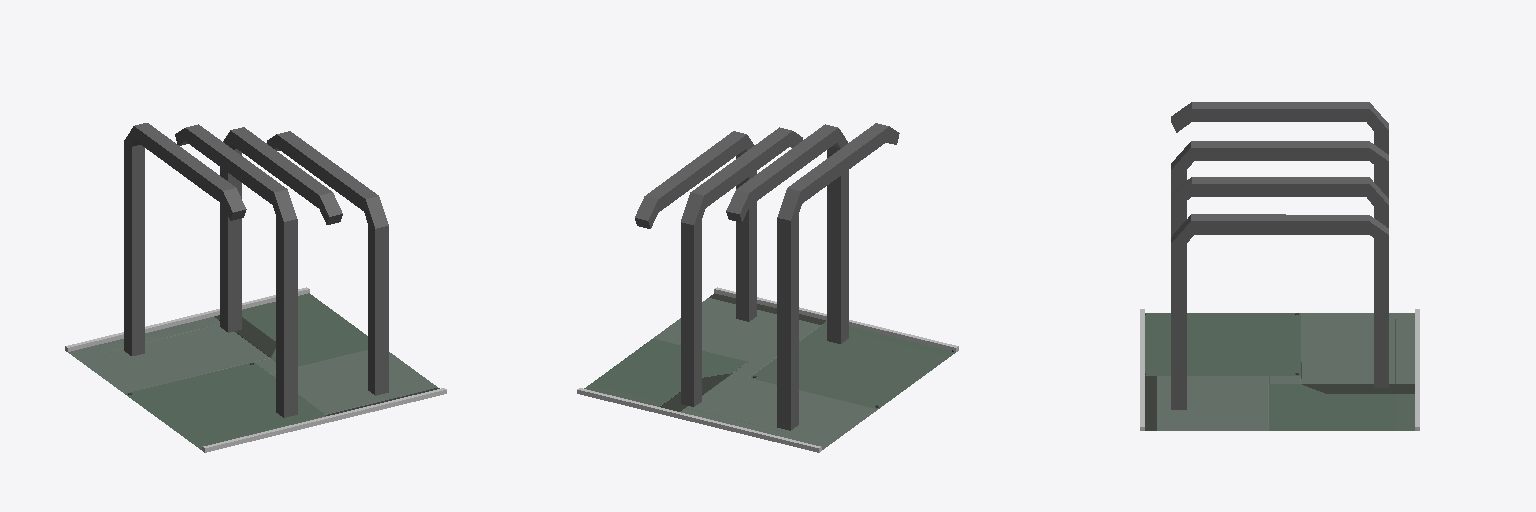
3 renders of one model, left to right at view 1: azimuth 30°, elevation 25°; view 2: azimuth 150°, elevation 25°; view 3: azimuth 270°, elevation 25°, orthographic.
Parts seen in each view (by area): view 1: Model_Pillars.002, Scifi_Panel_04_Plaza014_group4.000_Scifi_Panel_04_Plaza014_group, Cube.000_Cube.1291, Cube.001_Cube.1292; view 2: Model_Pillars.002, Scifi_Panel_04_Plaza014_group4.000_Scifi_Panel_04_Plaza014_group, Cube.001_Cube.1292, Cube.000_Cube.1291; view 3: Scifi_Panel_04_Plaza014_group4.000_Scifi_Panel_04_Plaza014_group, Model_Pillars.002, Cube.001_Cube.1292, Cube.000_Cube.1291.
Boxes of the visible parts, x1=… form: Model_Pillars.002: x1=124, y1=123, x2=388, y2=417; Scifi_Panel_04_Plaza014_group4.000_Scifi_Panel_04_Plaza014_group: x1=68, y1=293, x2=439, y2=449; Cube.000_Cube.1291: x1=202, y1=388, x2=446, y2=452; Cube.001_Cube.1292: x1=65, y1=287, x2=309, y2=351; Model_Pillars.002: x1=635, y1=123, x2=899, y2=430; Scifi_Panel_04_Plaza014_group4.000_Scifi_Panel_04_Plaza014_group: x1=584, y1=293, x2=955, y2=449; Cube.001_Cube.1292: x1=577, y1=388, x2=821, y2=452; Cube.000_Cube.1291: x1=714, y1=287, x2=958, y2=351; Scifi_Panel_04_Plaza014_group4.000_Scifi_Panel_04_Plaza014_group: x1=1145, y1=313, x2=1414, y2=430; Model_Pillars.002: x1=1171, y1=102, x2=1388, y2=409; Cube.001_Cube.1292: x1=1415, y1=309, x2=1419, y2=430; Cube.000_Cube.1291: x1=1140, y1=309, x2=1144, y2=430.
Size of the model in its own units: 10 by 9.19 by 10.